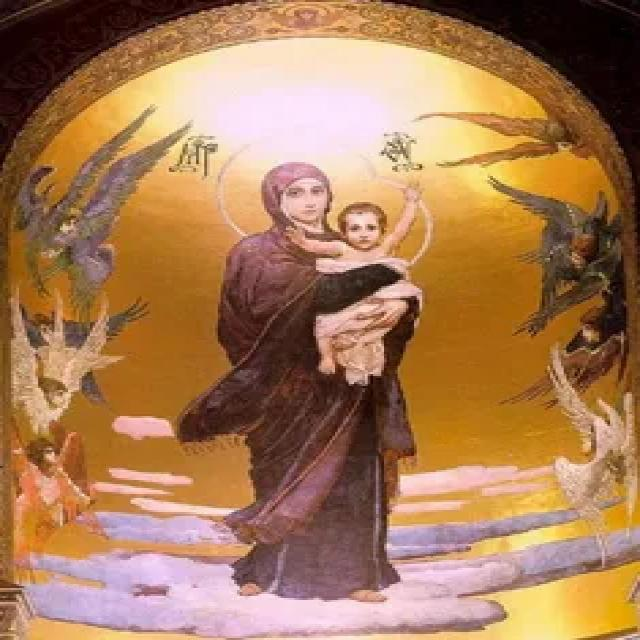mother of god: (186, 140, 439, 613)
